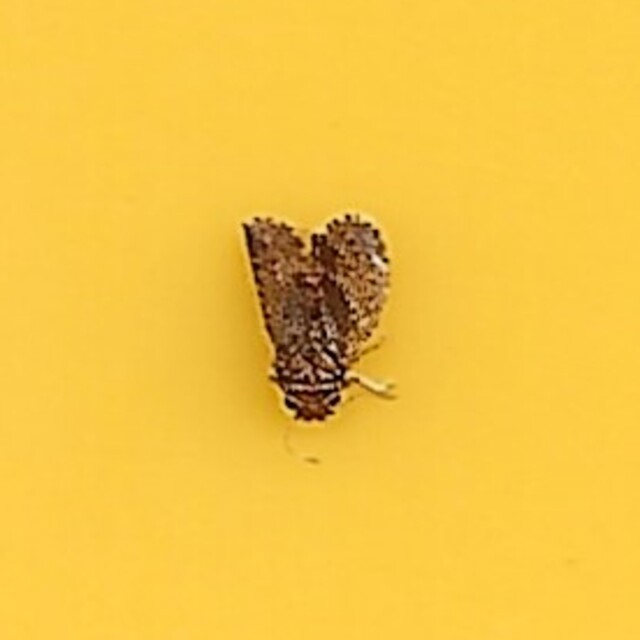Hemiptera: (232, 205, 408, 435)
